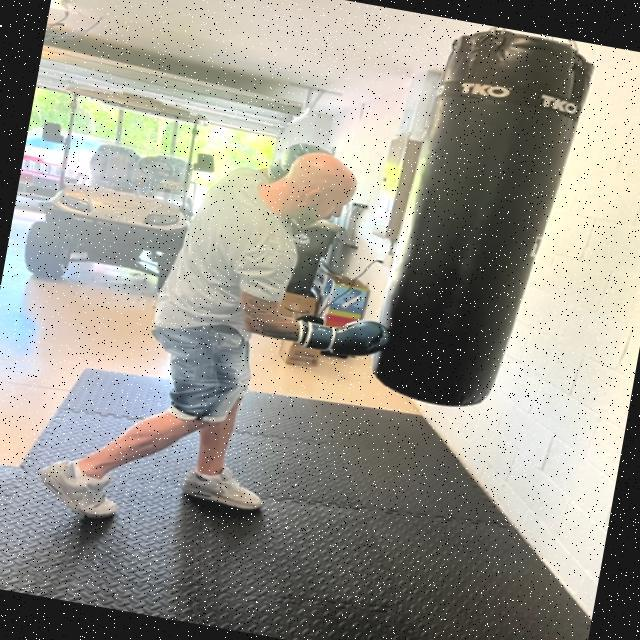uppercut: (154, 117, 434, 414)
